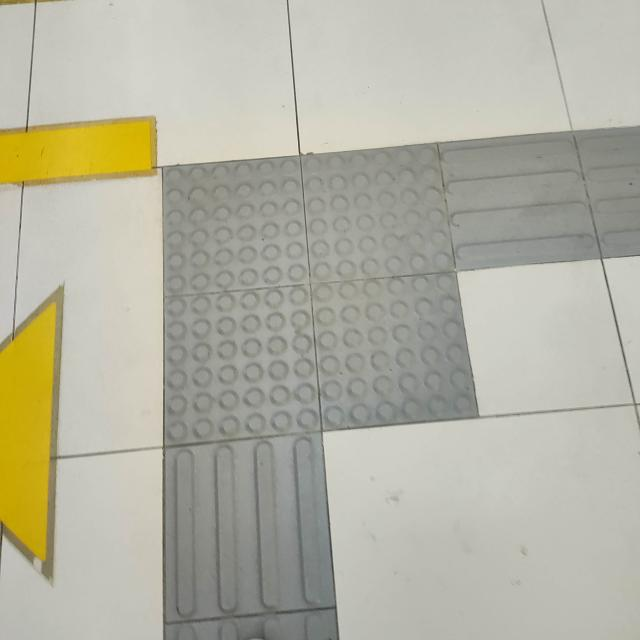kanan: (105, 103, 640, 506)
